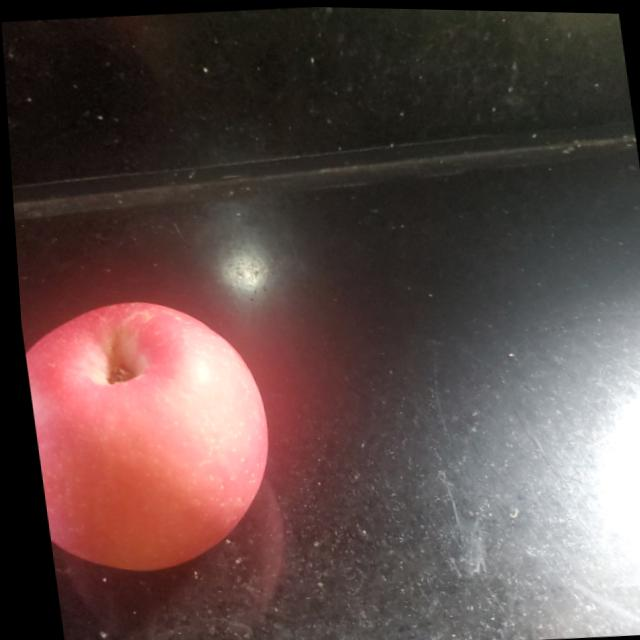apple: (16, 294, 279, 578)
